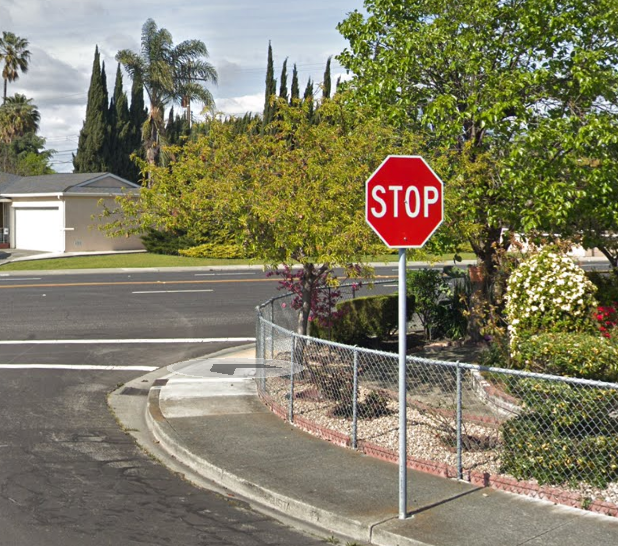stop_sign: (366, 156, 444, 247)
